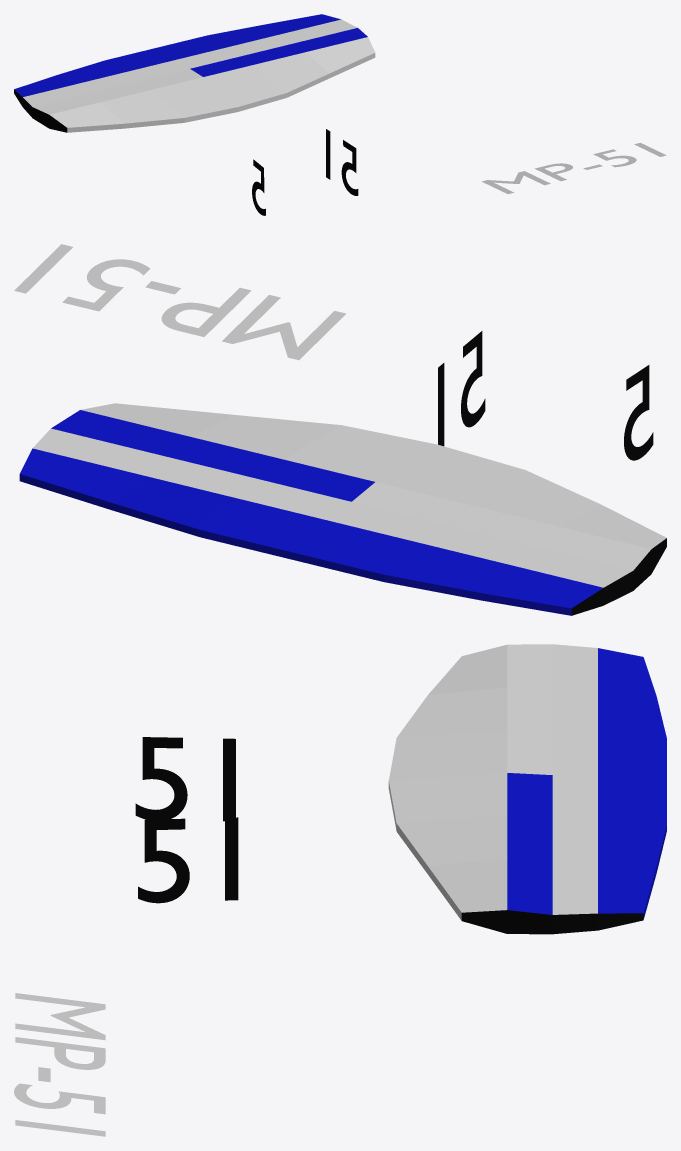
File: 4misc-avion4.obj
3 renders of one model, top to bottom at view 1: azimuth 30°, elevation 25°; view 2: azimuth 150°, elevation 25°; view 3: azimuth 270°, elevation 25°, orthographic. The views are drawn at different scales.
Parts seen in each view (by area): view 1: Aileron, Text, Text.001, Text.002; view 2: Aileron, Text, Text.001, Text.002; view 3: Aileron, Text, Text.001, Text.002.
Boxes of the visible parts, left/top/right/bottom form: Aileron: left=14, top=14, right=375, bottom=132; Text: left=482, top=142, right=666, bottom=193; Text.001: left=326, top=129, right=358, bottom=195; Text.002: left=252, top=159, right=265, bottom=215; Aileron: left=19, top=403, right=666, bottom=615; Text: left=14, top=244, right=345, bottom=360; Text.001: left=438, top=331, right=485, bottom=446; Text.002: left=624, top=365, right=653, bottom=460; Aileron: left=388, top=644, right=666, bottom=934; Text: left=14, top=993, right=105, bottom=1136; Text.001: left=138, top=817, right=238, bottom=903; Text.002: left=135, top=737, right=235, bottom=821.
Bounding box in the file's own units: 7.01 × 0.8066 × 4.88.
